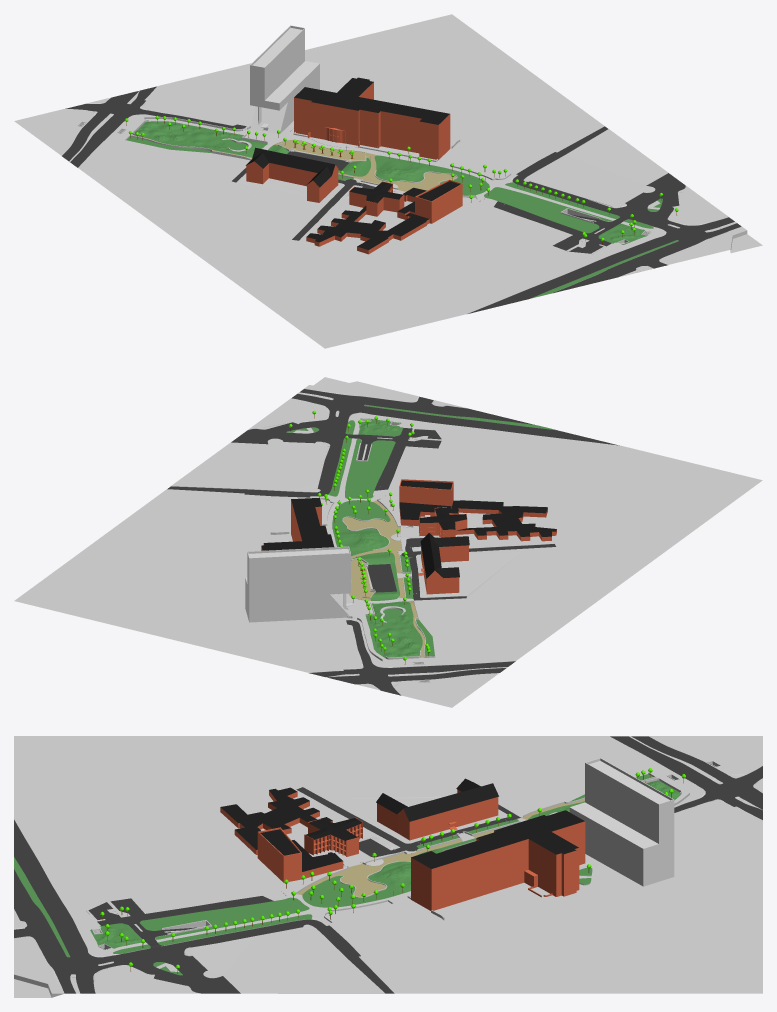
File: lohmuehlenpark.dae
The picture shows the model from 3 angles, top to bottom: view 1: azimuth 30°, elevation 25°; view 2: azimuth 150°, elevation 25°; view 3: azimuth 270°, elevation 25°; orthographic projection. The views are drawn at different scales.
Visible parts, largest first — view 1: Ground, BT21, ST69, BT5, WS3; view 2: Ground, BT5, ST69, WS3, BT21; view 3: Ground, BT21, BT5, ST69, WS3.
Boxes of the visible parts, x1,y1,x2,y2 form: Ground: (14, 14, 762, 348); BT21: (294, 77, 450, 159); ST69: (306, 179, 462, 254); BT5: (250, 25, 319, 134); WS3: (245, 147, 338, 202); Ground: (14, 377, 762, 707); BT5: (245, 546, 352, 622); ST69: (399, 479, 556, 541); WS3: (418, 533, 469, 594); BT21: (261, 497, 334, 550); Ground: (14, 736, 762, 997); BT21: (411, 810, 585, 910); BT5: (569, 758, 674, 886); ST69: (220, 787, 362, 882); WS3: (376, 778, 498, 840).
Size of the model in its own units: 379 by 466 by 57.1.
11 materials, 2 textured.
